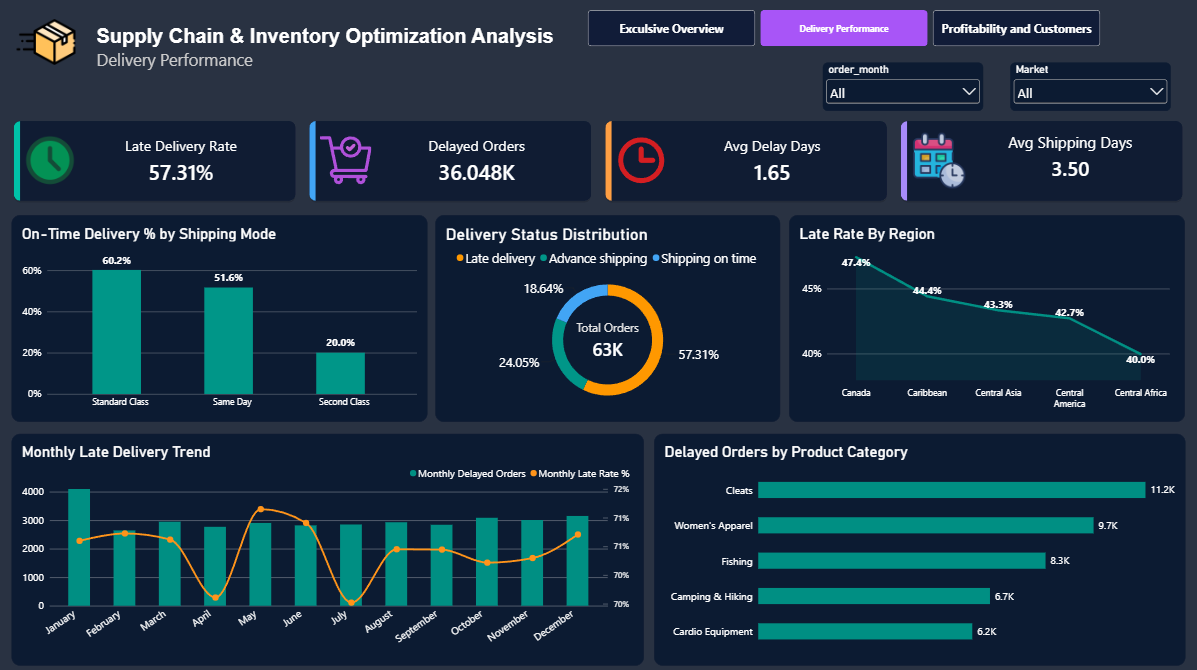

What the dashboard file says about the page in this screenshot:
{"tool":"powerbi","page":{"name":"Delivery Performance","canvas":[1920,1080],"ordinal":1},"visuals":[{"type":"cardVisual","fields":{"Data":["public staging_orders.Late Delivery Rate","public staging_orders.Delayed Orders","public staging_orders.Avg Delay Days","public staging_orders.Avg Shipping Days"]},"box":[19.9,190,1878.4,135.7],"z":0},{"type":"textbox","box":[155.6,39.8,747.4,150.2],"z":1000},{"type":"slicer","fields":{"Values":["public staging_orders.Market"]},"box":[1617.8,99.5,257,77.8],"z":2000},{"type":"slicer","fields":{"Values":["public staging_orders.order_month"]},"box":[1317.4,99.5,257,77.8],"z":3000},{"type":"lineClusteredColumnComboChart","title":"Monthly Late Delivery Trend","fields":{"Category":["public staging_orders.order date (DateOrders).Variation.Date Hierarchy.Month"],"Y":["public staging_orders.Monthly Delayed Orders"],"Y2":["public staging_orders.Monthly Late Rate %"]},"box":[19.9,694.9,1011.6,371],"z":4000},{"type":"donutChart","title":"Delivery Status Distribution","fields":{"Category":["public staging_orders.Delivery Status"],"Y":["public staging_orders.Orders-by Status"]},"box":[698.5,343.8,551.9,331.2],"z":5000},{"type":"clusteredBarChart","title":"Delayed Orders by Product Category","fields":{"Category":["public staging_orders.Category Name"],"Y":["public staging_orders.Delayed Orders"]},"box":[1047.8,694.9,850.5,371],"z":6000},{"type":"clusteredColumnChart","title":"On-Time Delivery % by Shipping Mode","fields":{"Category":["public staging_orders.Shipping Mode"],"Y":["public staging_orders.On-Time Delivery %"]},"box":[19.9,343.8,666,331.2],"z":7000},{"type":"lineChart","title":"Late Rate By Region","fields":{"Category":["public staging_orders.Order Region"],"Y":["public staging_orders.On-Time Delivery %"]},"box":[1265,343.8,633.4,331.2],"z":8000},{"type":"image","box":[20,20,110,94],"z":9000},{"type":"pageNavigator","box":[942,16,820,58],"z":9001}]}

Visuals, with their boxes in screenshot pixels (x1, y1, x2, y2), scaled from the page's 1920x1080 canvas onto the 1197x670 screenshot:
cardVisual - public staging_orders.Late Delivery Rate x public staging_orders.Delayed Orders: <region>12, 118, 1183, 202</region>
textbox: <region>97, 25, 563, 118</region>
slicer - public staging_orders.Market: <region>1009, 62, 1169, 110</region>
slicer - public staging_orders.order_month: <region>821, 62, 982, 110</region>
"Monthly Late Delivery Trend" lineClusteredColumnComboChart: <region>12, 431, 643, 661</region>
"Delivery Status Distribution" donutChart: <region>435, 213, 780, 419</region>
"Delayed Orders by Product Category" clusteredBarChart: <region>653, 431, 1183, 661</region>
"On-Time Delivery % by Shipping Mode" clusteredColumnChart: <region>12, 213, 428, 419</region>
"Late Rate By Region" lineChart: <region>789, 213, 1184, 419</region>
image: <region>12, 12, 81, 71</region>
pageNavigator: <region>587, 10, 1098, 46</region>
